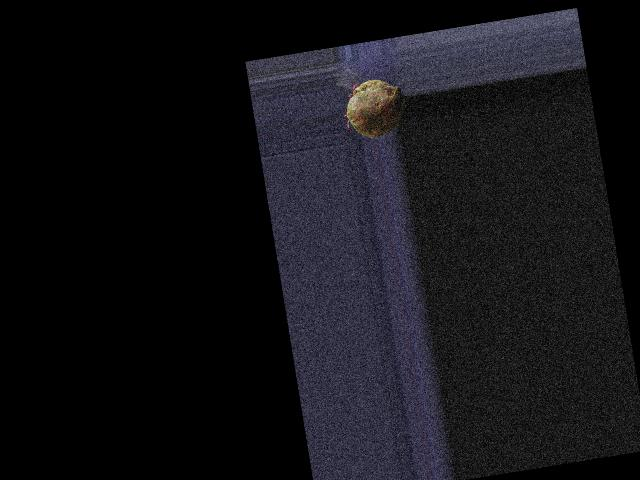beet: (339, 74, 409, 141)
